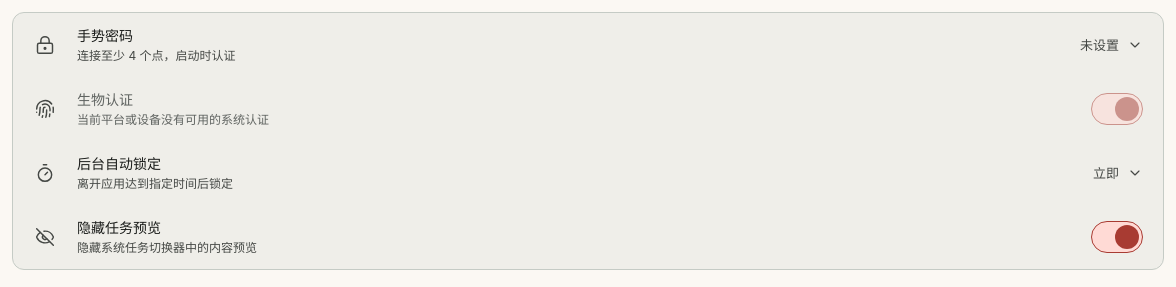
Test: hides automatic locking and closes its menu when both protections are off
Later steps or results of the test are not shown.
expect the button "手势密码 连接至少 4 个点，启动时认证 未设置" is shown: met, box [13,13,1163,77]
Click the button "后台自动锁定 离开应用达到指定时间后锁定 立即" at (119, 164), box [13,141,1163,205]
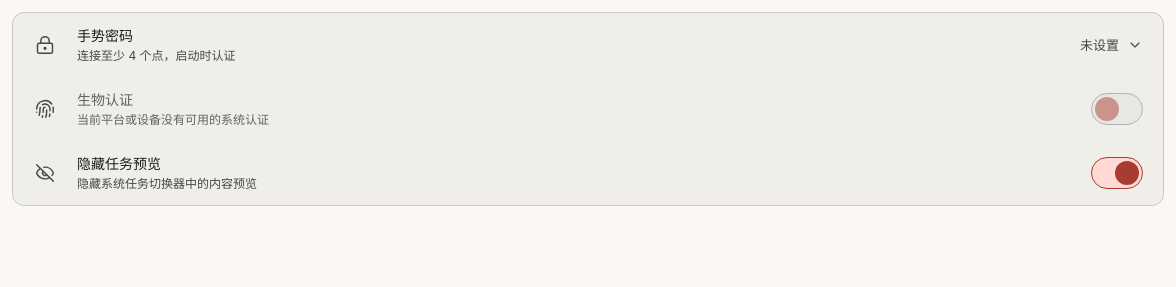
expect the button "后台自动锁定" is gone: met
